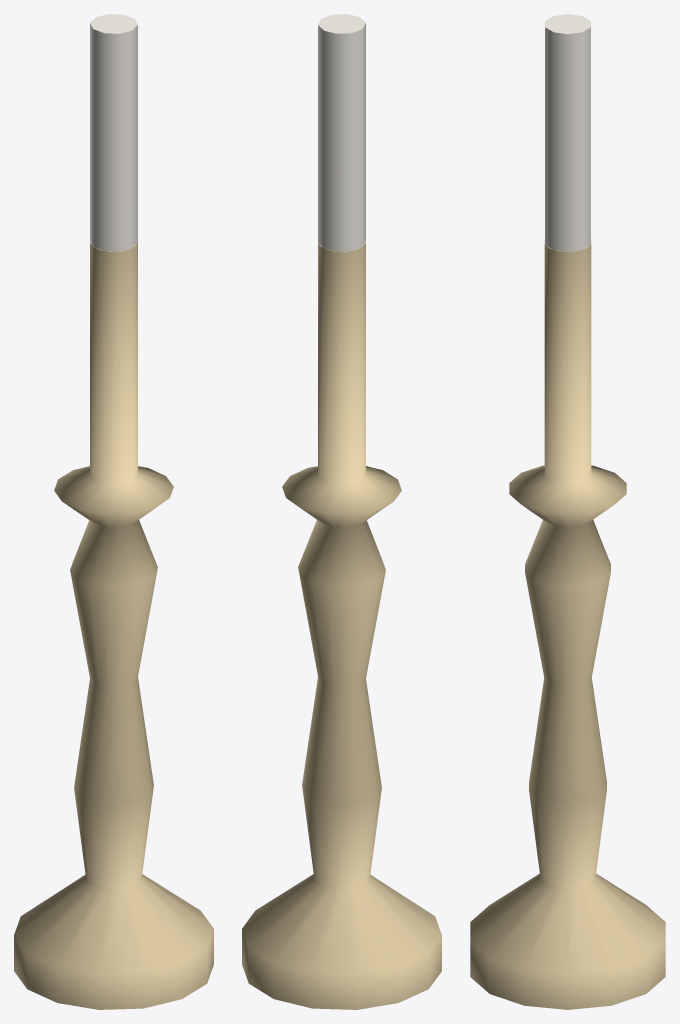
The model's file is SM_Candlestick.fbx.
3 renders of one model, left to right at view 1: azimuth 30°, elevation 25°; view 2: azimuth 150°, elevation 25°; view 3: azimuth 270°, elevation 25°, orthographic.
Visible parts, largest first — view 1: SM_Candlestick; view 2: SM_Candlestick; view 3: SM_Candlestick.
Part boxes in pixels (box(x1,y1,x2,y2)): SM_Candlestick: box(14, 14, 213, 1009); SM_Candlestick: box(242, 14, 441, 1009); SM_Candlestick: box(470, 14, 665, 1009).
Size of the model in its own units: 10 by 52 by 9.75.
